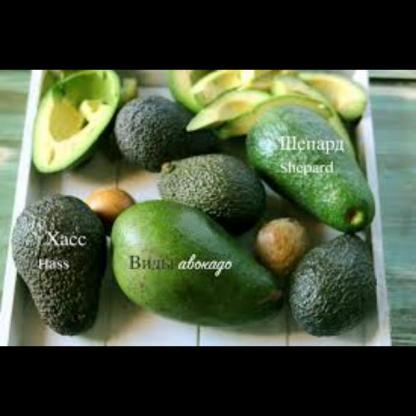avocado: (113, 192, 286, 332), (248, 84, 376, 238), (8, 178, 110, 341), (164, 69, 398, 125), (122, 83, 245, 159), (292, 228, 380, 332), (27, 68, 119, 166), (146, 150, 266, 222)
